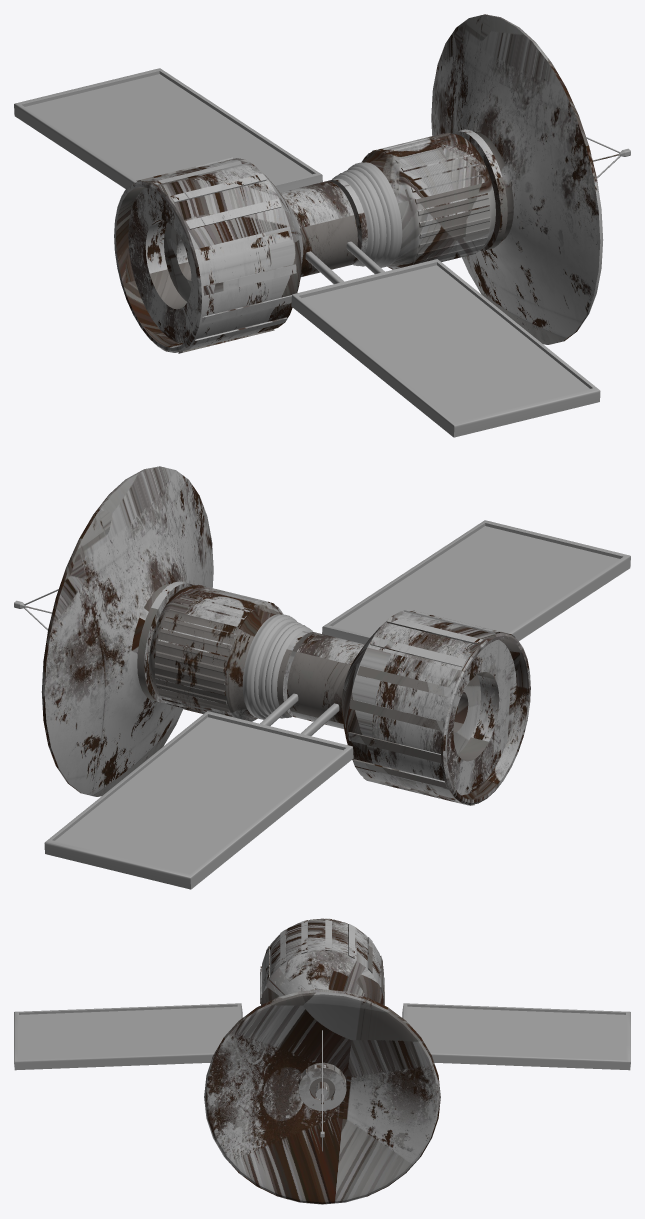
The model's file is satellite.obj.
3 views of the same model, one above another, from view 1: azimuth 30°, elevation 25°; view 2: azimuth 150°, elevation 25°; view 3: azimuth 270°, elevation 25° (orthographic). The views are drawn at different scales.
Visible parts, largest first — view 1: Satélite_Cylinder.004, Placas_Cylinder.001, Couro_Cylinder; view 2: Satélite_Cylinder.004, Placas_Cylinder.001, Couro_Cylinder; view 3: Satélite_Cylinder.004, Placas_Cylinder.001.
Part boxes in pixels (x1=…): Satélite_Cylinder.004: x1=114, y1=14, x2=618, y2=353; Placas_Cylinder.001: x1=14, y1=68, x2=600, y2=437; Couro_Cylinder: x1=332, y1=162, x2=402, y2=267; Satélite_Cylinder.004: x1=26, y1=466, x2=530, y2=805; Placas_Cylinder.001: x1=44, y1=520, x2=630, y2=889; Couro_Cylinder: x1=242, y1=614, x2=312, y2=719; Satélite_Cylinder.004: x1=204, y1=918, x2=440, y2=1204; Placas_Cylinder.001: x1=14, y1=1003, x2=630, y2=1070.
Bounding box in the file's own units: 6.21 × 3.85 × 10.02.
Materials: 5 (1 with a texture image).
